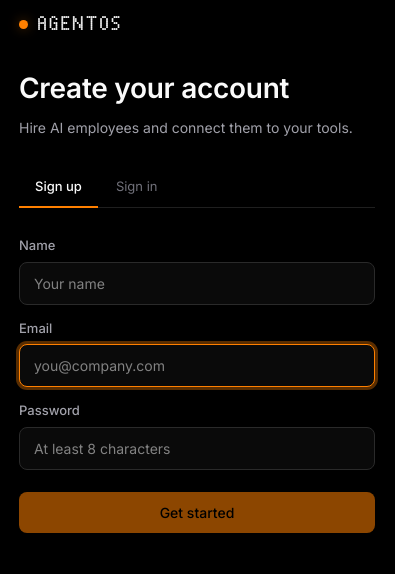
Test: Login › warns when the password is shorter than 8 characters
Type "short" into the password field with placeholder "At least 8 characters" at x=197, y=448, box [19, 427, 375, 470]
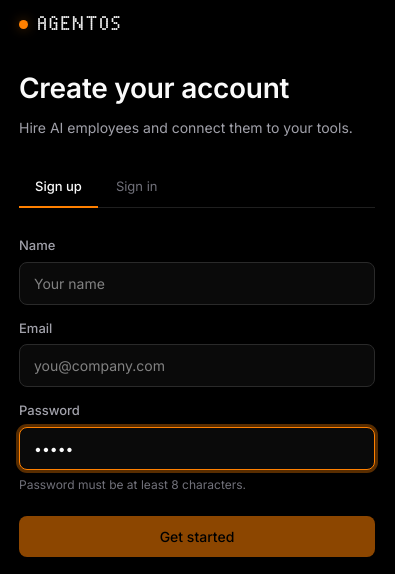
Check: the text "Password must be at least 8 characters." is shown, box [19, 477, 246, 492]
